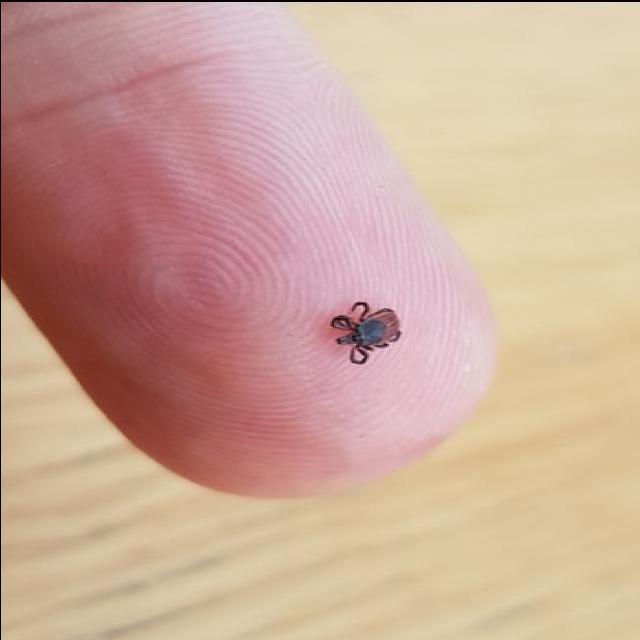Ixodes Ricinus-F: (329, 298, 399, 362)
